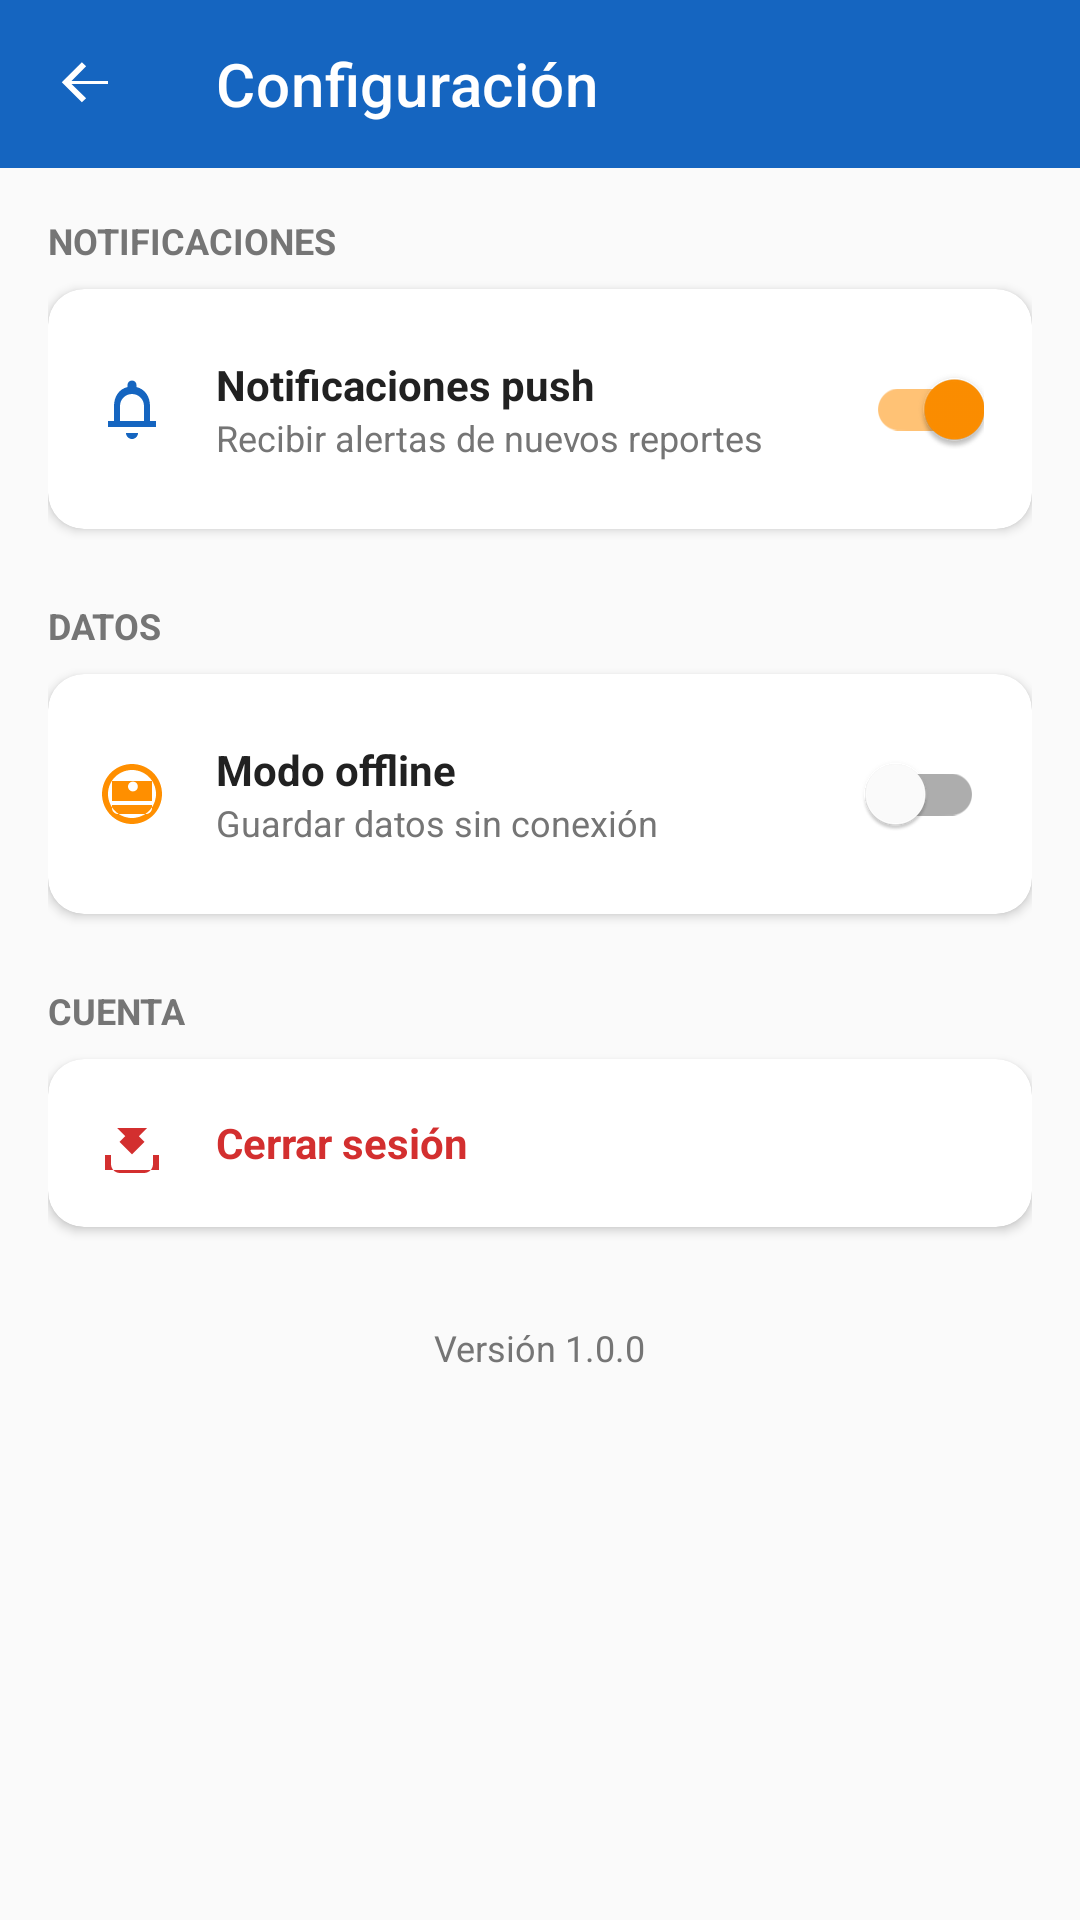

Where icons sit on this 1080 × 1920 app screen, as (x1, y1, x2, y2):
notification: (108, 380, 156, 439)
